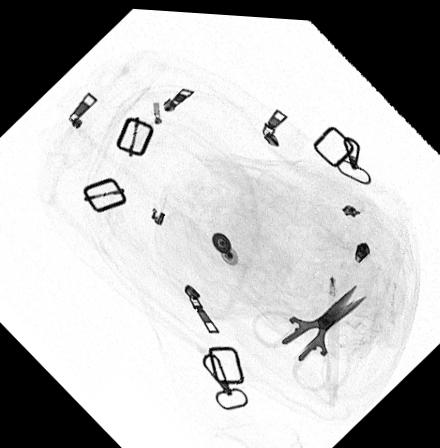Scissors: (249, 276, 369, 390)
